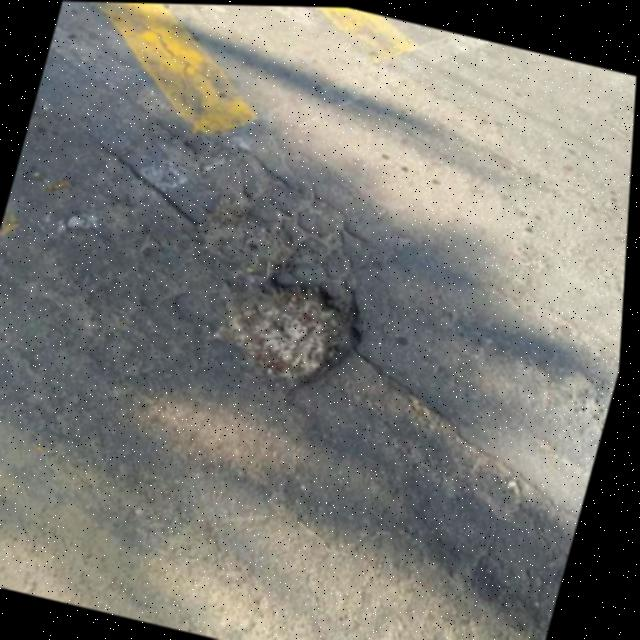Pothole: (199, 251, 382, 399), (185, 190, 309, 276), (139, 116, 207, 170)
